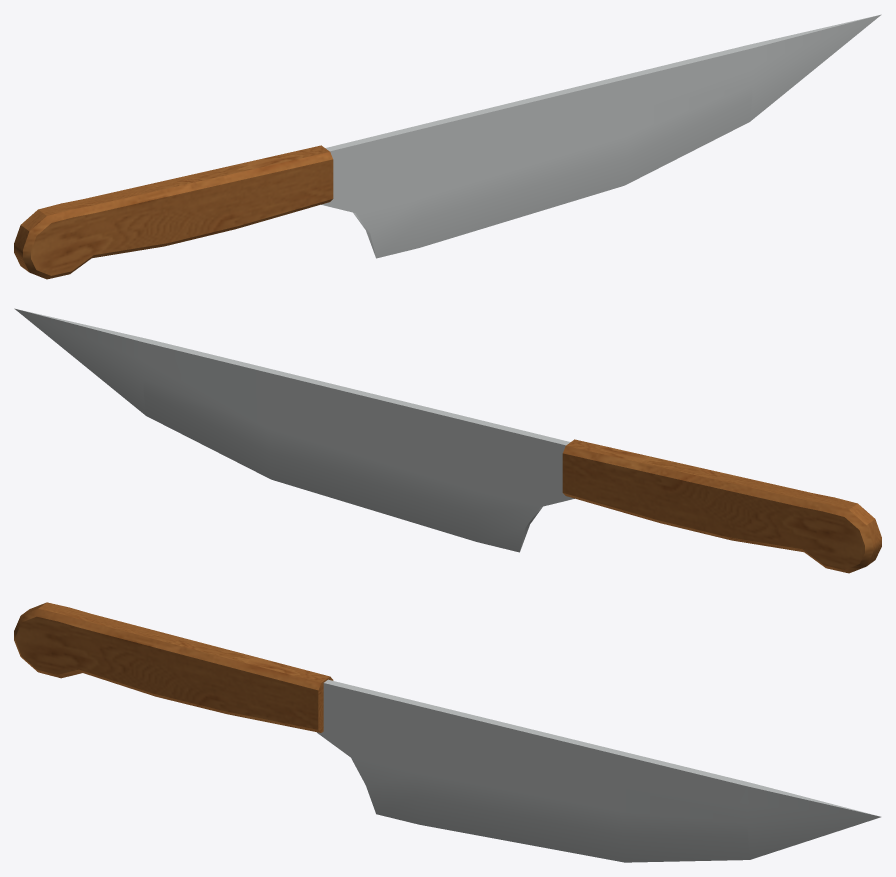
Rendered from knife2.fbx.
3 views of the same model, one above another, from view 1: azimuth 30°, elevation 25°; view 2: azimuth 150°, elevation 25°; view 3: azimuth 330°, elevation 25° (orthographic).
Parts seen in each view (by area): view 1: knife3; view 2: knife3; view 3: knife3.
Boxes of the visible parts, x1,y1,x2,y2 form: knife3: (14, 14, 881, 279); knife3: (14, 308, 881, 573); knife3: (14, 602, 880, 862).
Bounding box in the file's own units: 0.5 × 0.0706 × 0.0148.
